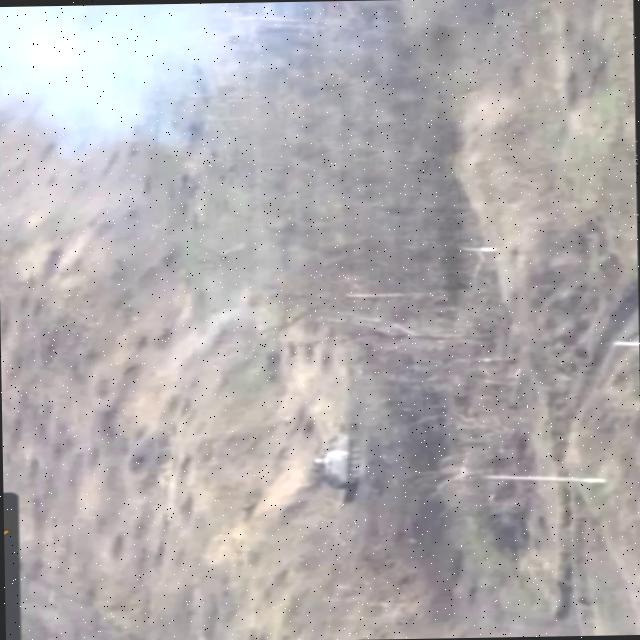APC: (312, 424, 365, 491)
